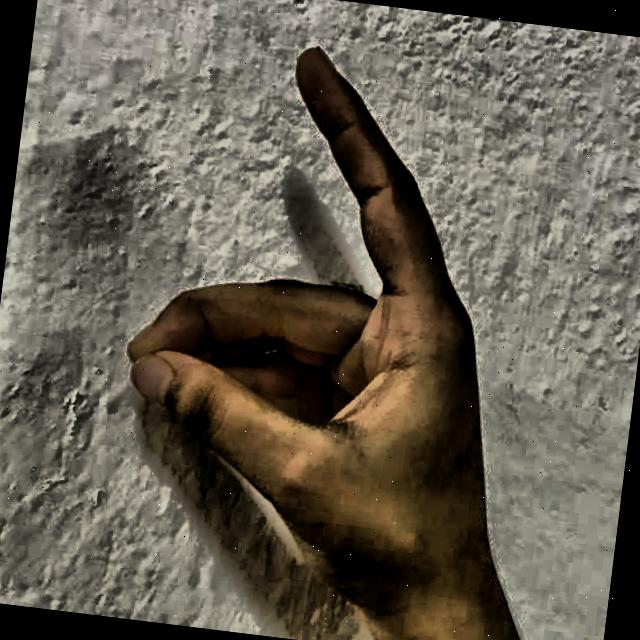Dha: (74, 6, 597, 640)
